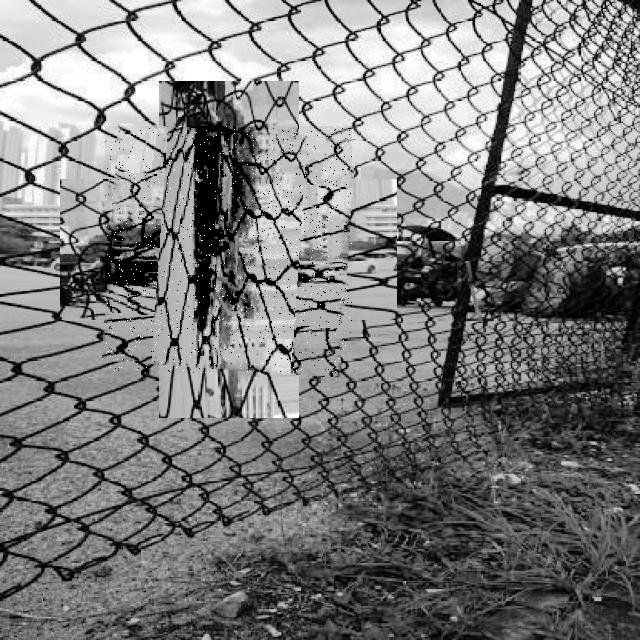anomaly-fence: (105, 126, 352, 373)
